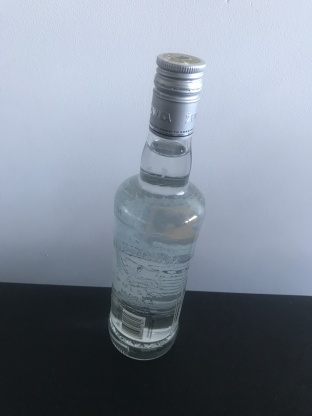nakretka: (147, 51, 206, 142)
